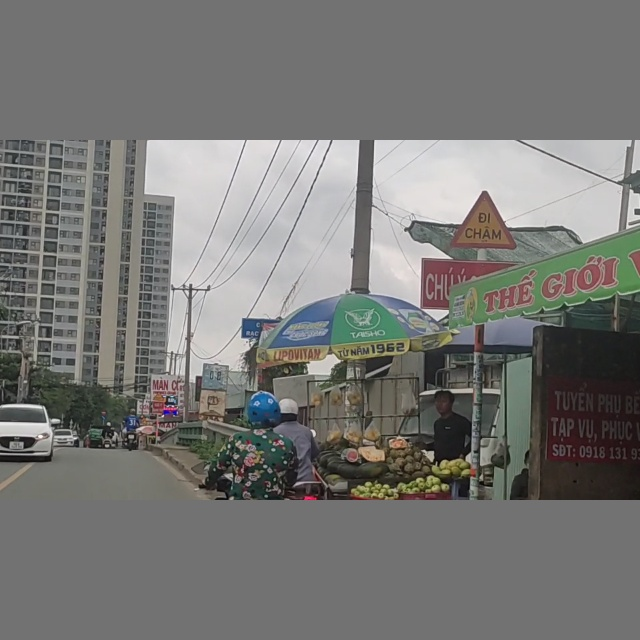W.245a: (451, 189, 514, 248)
